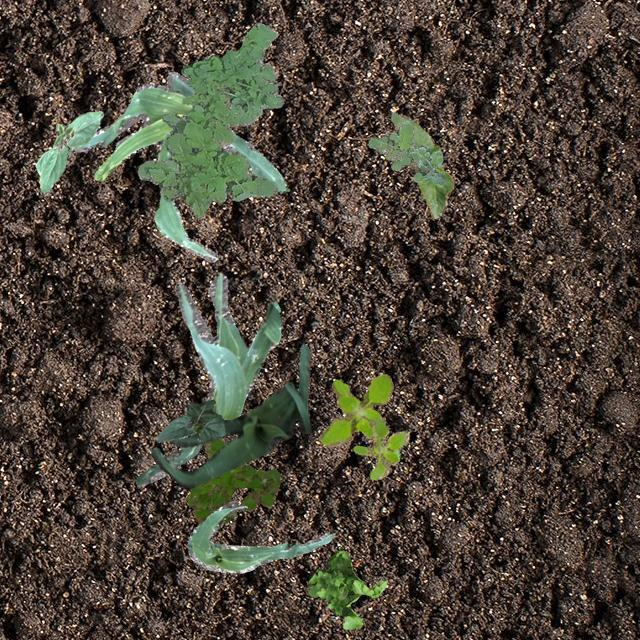crop: (70, 70, 286, 262), (134, 272, 280, 486), (150, 342, 310, 488), (186, 500, 334, 572), (398, 114, 453, 218), (34, 110, 102, 192), (154, 398, 224, 442)
weed: (136, 22, 282, 216), (184, 437, 278, 522), (304, 546, 386, 630), (368, 111, 444, 186), (318, 374, 392, 446), (352, 416, 408, 478)
